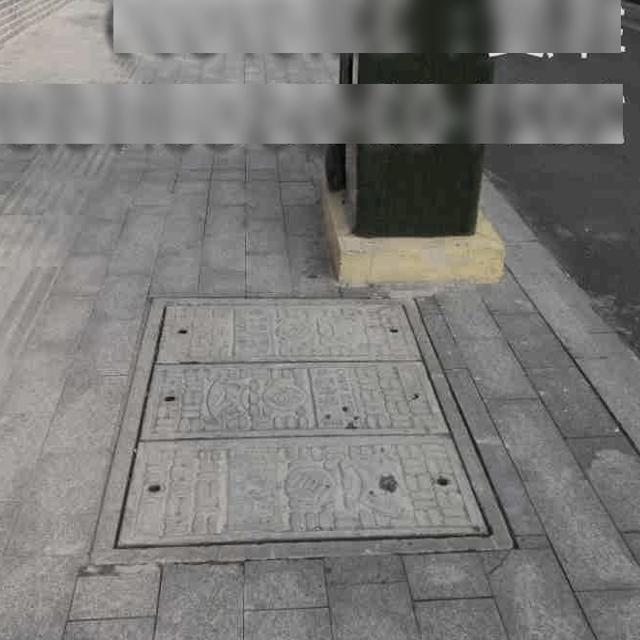good: (88, 286, 514, 564)
